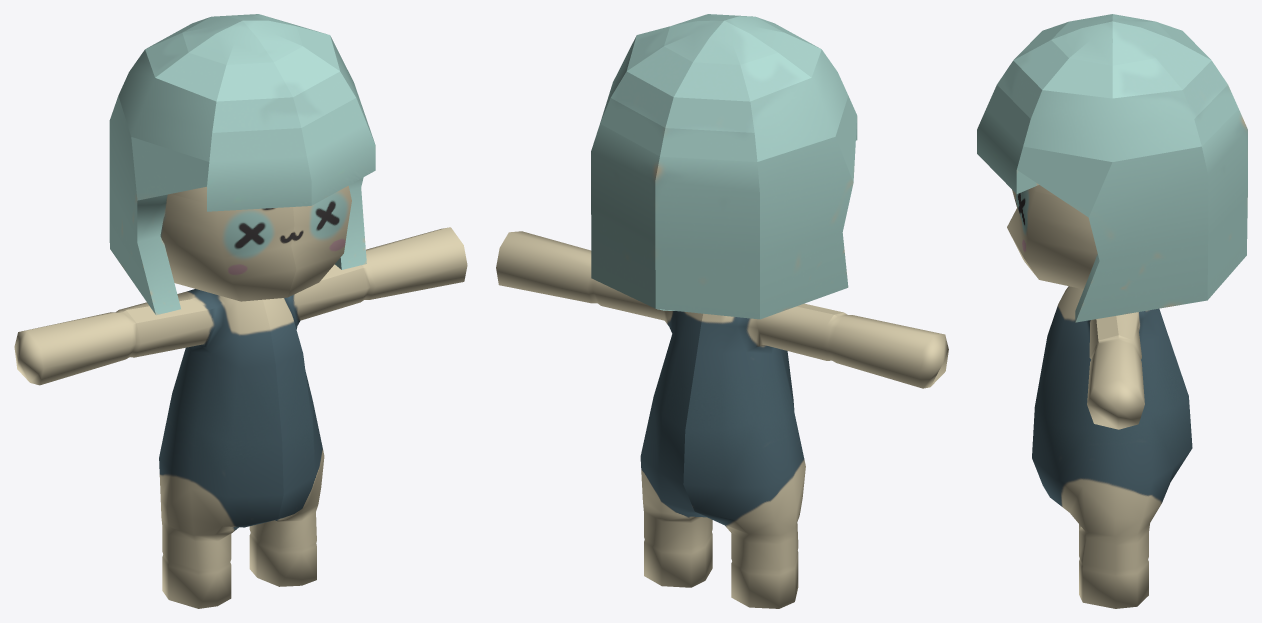
The model's file is Player_Color_Fix.fbx.
3 renders of one model, left to right at view 1: azimuth 30°, elevation 25°; view 2: azimuth 150°, elevation 25°; view 3: azimuth 270°, elevation 25°, orthographic.
Visible parts, largest first — view 1: Body, Hair; view 2: Hair, Body; view 3: Hair, Body.
Boxes of the visible parts, x1,y1,x2,y2 form: Body: (14, 185, 467, 608); Hair: (109, 14, 375, 315); Hair: (591, 14, 857, 319); Body: (496, 231, 948, 608); Hair: (977, 14, 1247, 322); Body: (1007, 185, 1192, 608).
Bounding box in the file's own units: 8.67 × 10.52 × 4.67.
